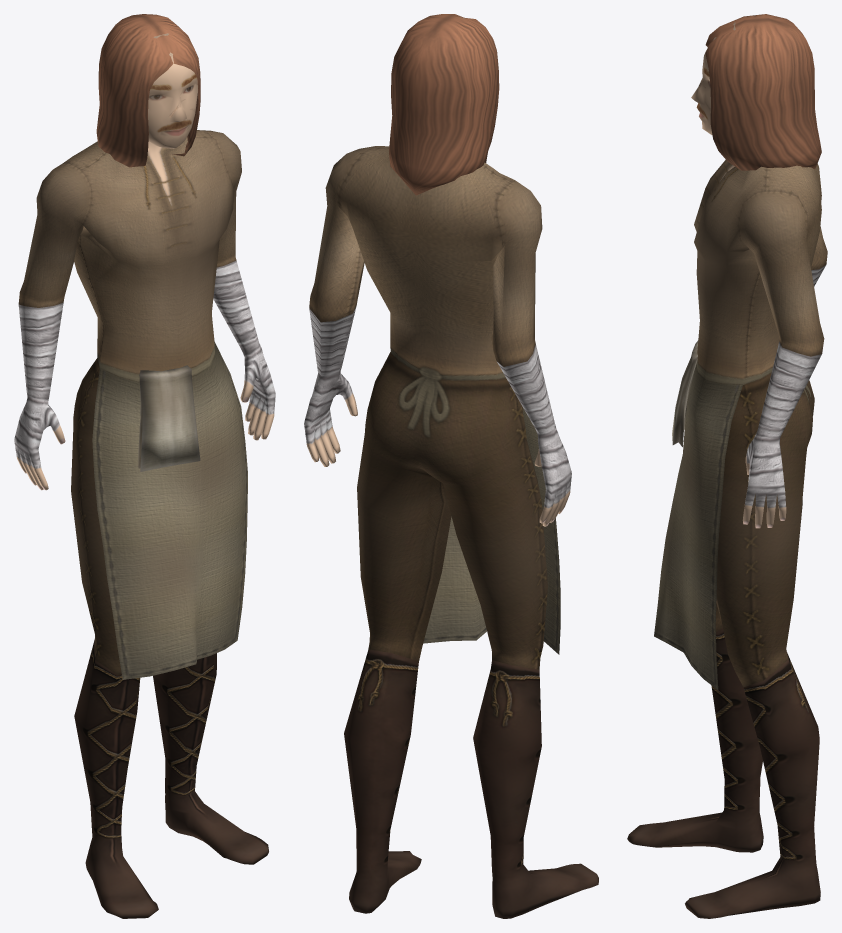
Rendered from tavern_keeper.obj.
3 views of the same model, side by side, from view 1: azimuth 30°, elevation 25°; view 2: azimuth 150°, elevation 25°; view 3: azimuth 270°, elevation 25° (orthographic). The views are drawn at different scales.
Parts seen in each view (by area): view 1: human_male_light_armor_4, human_male_light_boots_2, human_male_light_gloves, human_male_hair_2, human_male_head_5; view 2: human_male_light_armor_4, human_male_light_boots_2, human_male_hair_2, human_male_light_gloves; view 3: human_male_light_armor_4, human_male_light_boots_2, human_male_hair_2, human_male_light_gloves, human_male_head_5.
Part boxes in pixels (<box>): human_male_light_armor_4: <box>18,130,247,679</box>; human_male_light_boots_2: <box>74,639,268,918</box>; human_male_light_gloves: <box>14,260,275,490</box>; human_male_hair_2: <box>96,14,200,167</box>; human_male_head_5: <box>148,33,197,148</box>; human_male_light_armor_4: <box>309,146,560,669</box>; human_male_light_boots_2: <box>344,649,598,918</box>; human_male_hair_2: <box>389,14,499,195</box>; human_male_light_gloves: <box>304,306,571,526</box>; human_male_light_armor_4: <box>654,160,827,689</box>; human_male_light_boots_2: <box>627,628,820,918</box>; human_male_hair_2: <box>705,14,821,170</box>; human_male_light_gloves: <box>742,265,825,528</box>; human_male_head_5: <box>691,22,735,134</box>.
Bounding box in the file's own units: 1.28 × 4.23 × 0.897.
